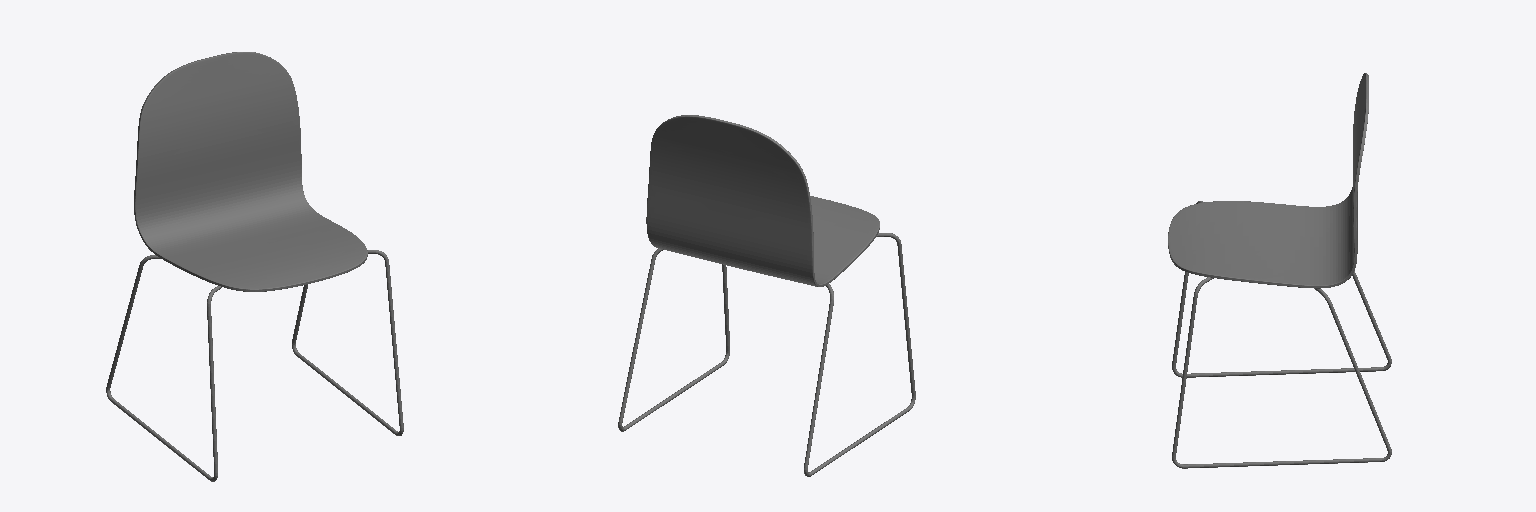
The model's file is chair09.obj.
3 renders of one model, left to right at view 1: azimuth 30°, elevation 25°; view 2: azimuth 150°, elevation 25°; view 3: azimuth 270°, elevation 25°, orthographic.
Visible parts, largest first — view 1: Object.1, Object.2; view 2: Object.1, Object.2; view 3: Object.1, Object.2.
Part boxes in pixels (bbox=[...]): Object.1: bbox=[134, 52, 367, 291]; Object.2: bbox=[106, 250, 403, 481]; Object.1: bbox=[646, 115, 879, 286]; Object.2: bbox=[618, 233, 915, 476]; Object.1: bbox=[1168, 73, 1368, 288]; Object.2: bbox=[1172, 201, 1391, 468].
Bounding box in the file's own units: 19.25 × 32.43 × 19.7.